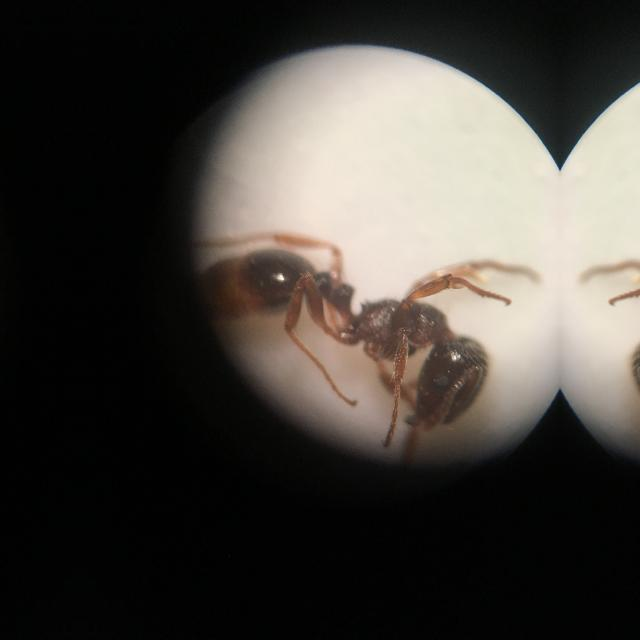Tetramorium: (200, 221, 516, 435)
